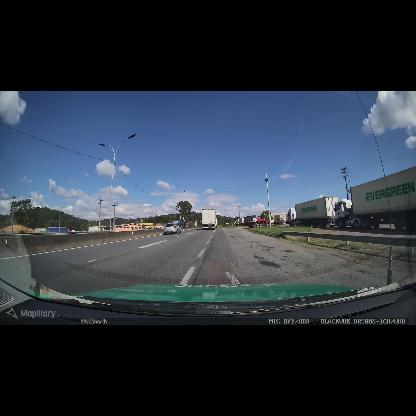O-MP: (229, 221, 231, 226)
R-19: (252, 217, 257, 222)
